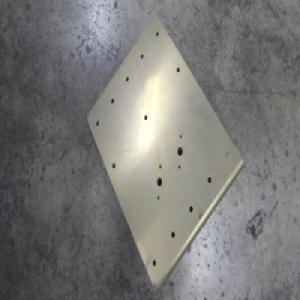MetalSheet: (85, 13, 245, 290)
